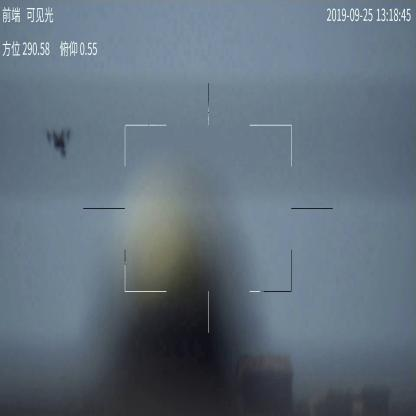uav: (46, 127, 72, 157)
